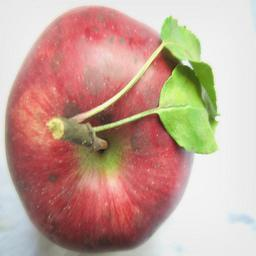apple: (5, 6, 191, 249)
